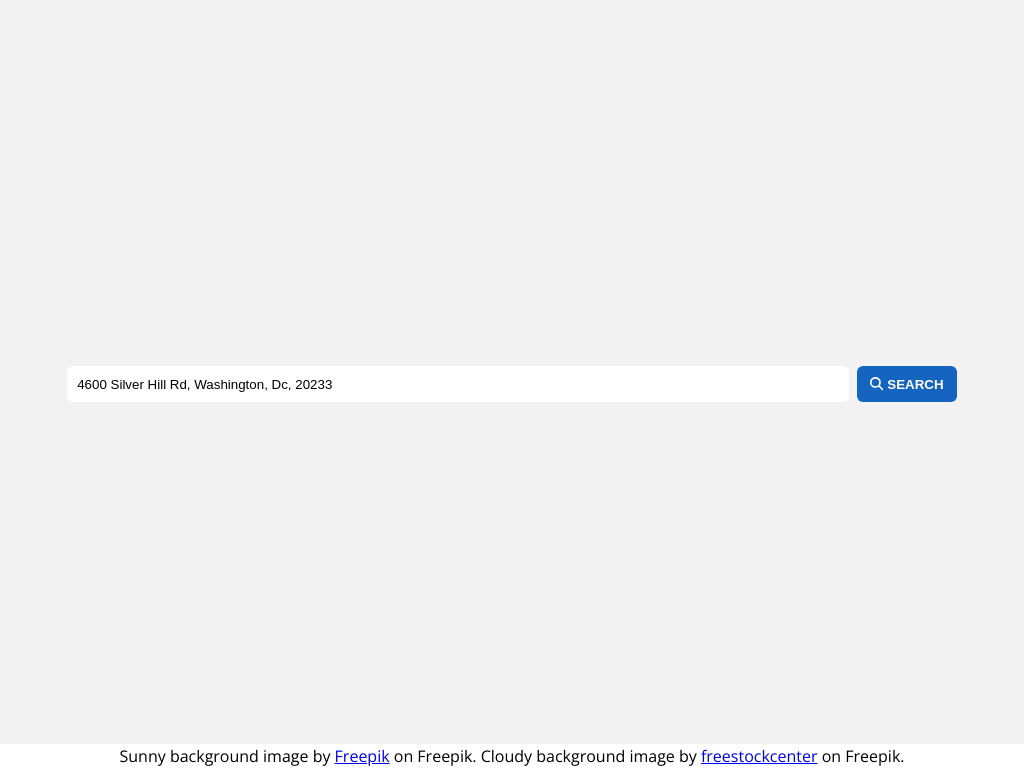
Test: App is working as intended › Search is successful and fields are filled correctly
Click the button "Search" at (907, 384), box [857,366,957,402]
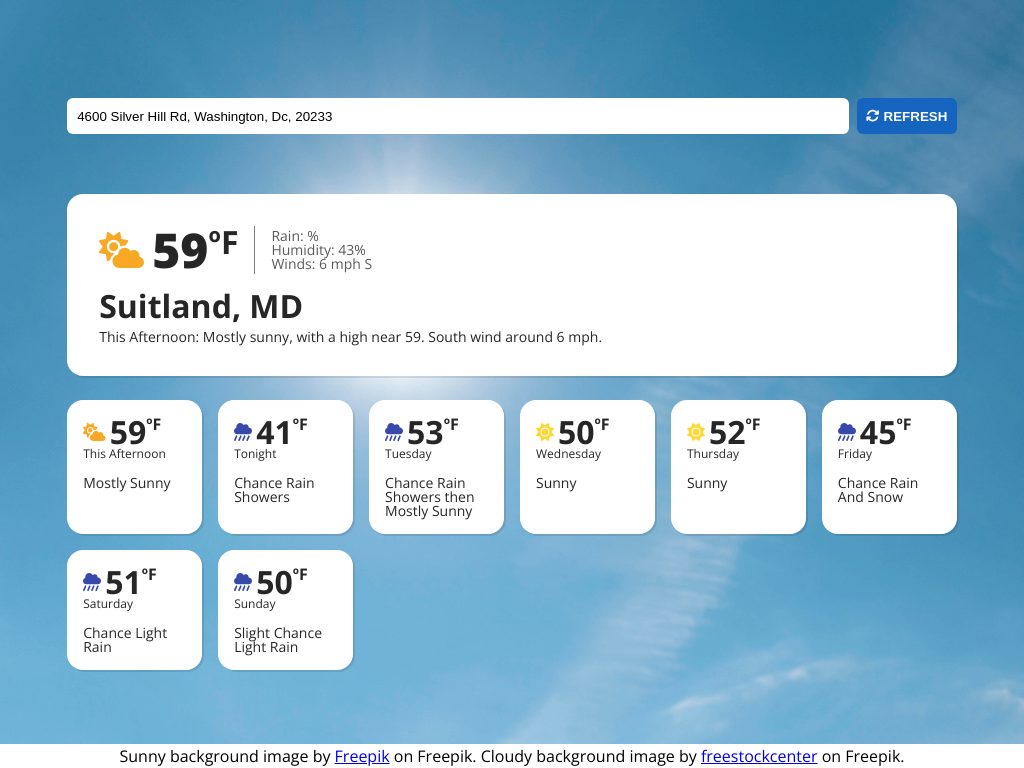
Result: the button "Refresh" is shown at [857,98,957,134]
Result: the heading "Suitland, MD" is shown at [99,284,303,327]
Result: the text "This Afternoon" is shown 2 times at [99,327,602,346]; [83,445,166,462]
